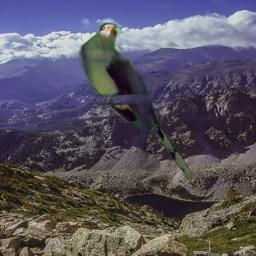Cuckoo: (79, 22, 202, 182)
